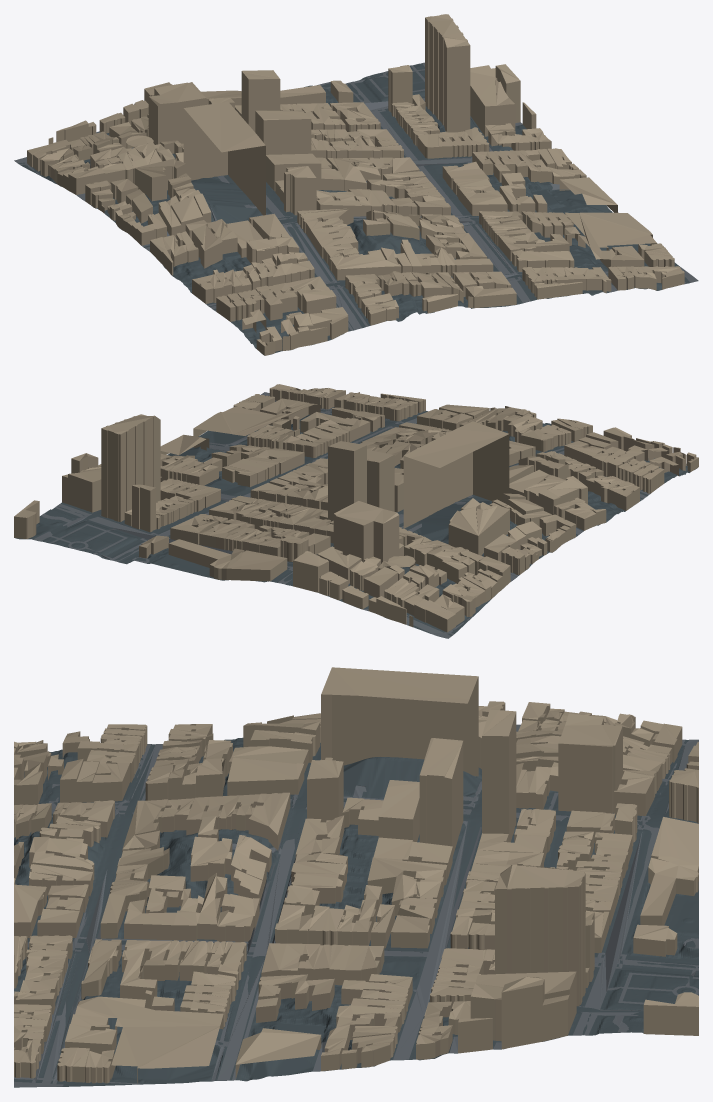
Rendered from epsg26910-1436-10893.lod0.glb.
The picture shows the model from 3 angles, top to bottom: view 1: azimuth 30°, elevation 25°; view 2: azimuth 150°, elevation 25°; view 3: azimuth 270°, elevation 25°; orthographic projection. The views are drawn at different scales.
Parts seen in each view (by area): view 1: epsg26910-1436-10893-lod0; view 2: epsg26910-1436-10893-lod0; view 3: epsg26910-1436-10893-lod0.
Boxes of the visible parts, x1=… form: epsg26910-1436-10893-lod0: x1=14, y1=14, x2=698, y2=355; epsg26910-1436-10893-lod0: x1=14, y1=384, x2=698, y2=638; epsg26910-1436-10893-lod0: x1=14, y1=667, x2=698, y2=1087.
Size of the model in its own units: 384 by 120 by 384.
